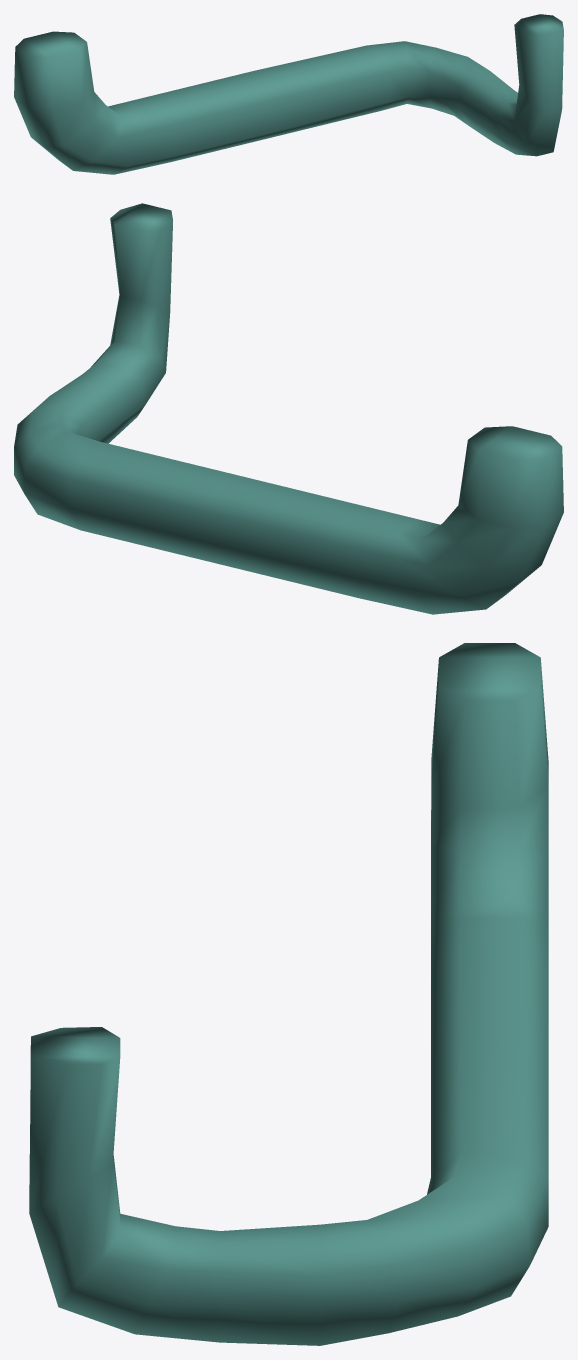
File: Container_Waterpipe_4.fbx
The picture shows the model from 3 angles, top to bottom: view 1: azimuth 30°, elevation 25°; view 2: azimuth 150°, elevation 25°; view 3: azimuth 270°, elevation 25°; orthographic projection. The views are drawn at different scales.
Parts seen in each view (by area): view 1: pasted__pCube51; view 2: pasted__pCube51; view 3: pasted__pCube51.
Part boxes in pixels (<box>): pasted__pCube51: <box>14,14,563,174</box>; pasted__pCube51: <box>14,203,563,614</box>; pasted__pCube51: <box>29,643,548,1345</box>.
Bounding box in the file's own units: 1.1 × 0.3454 × 0.5649.
